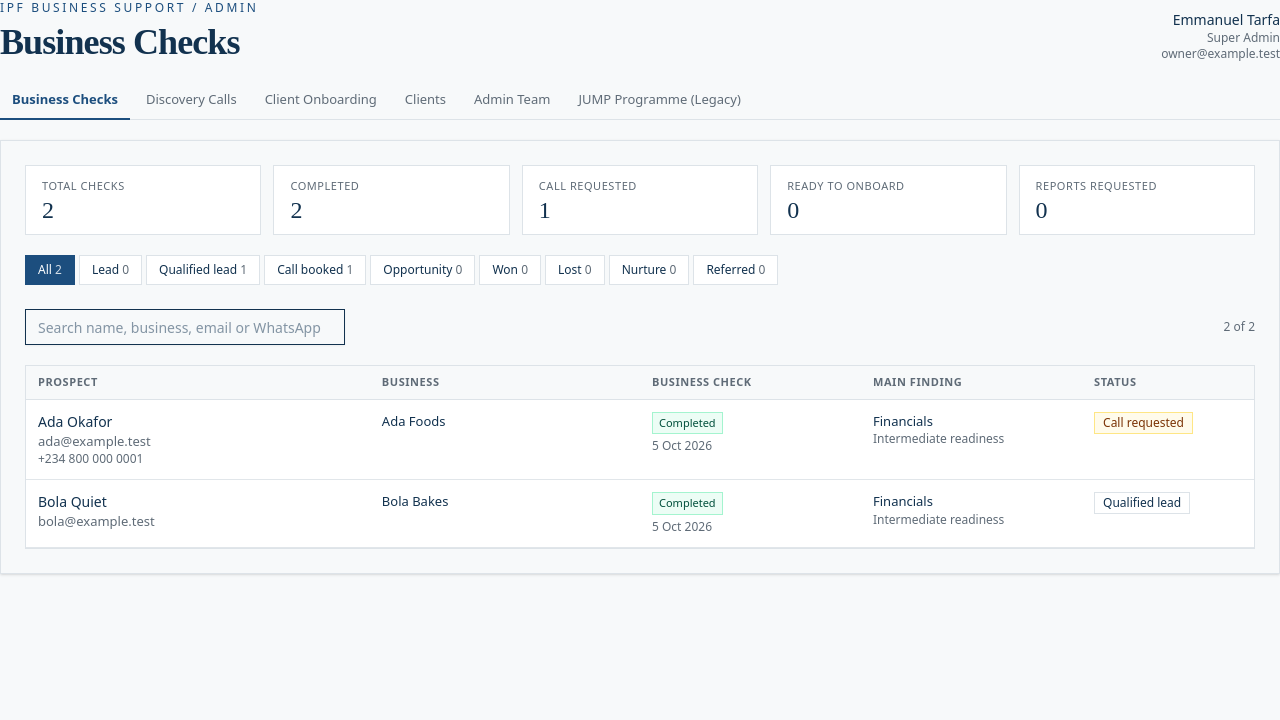
it: Business Check record drawer › shows the saved findings, outline and recommendations without recalculating anything
Click the text "Ada Okafor": (640, 439) [26, 399, 1254, 480]
(page scrolled)
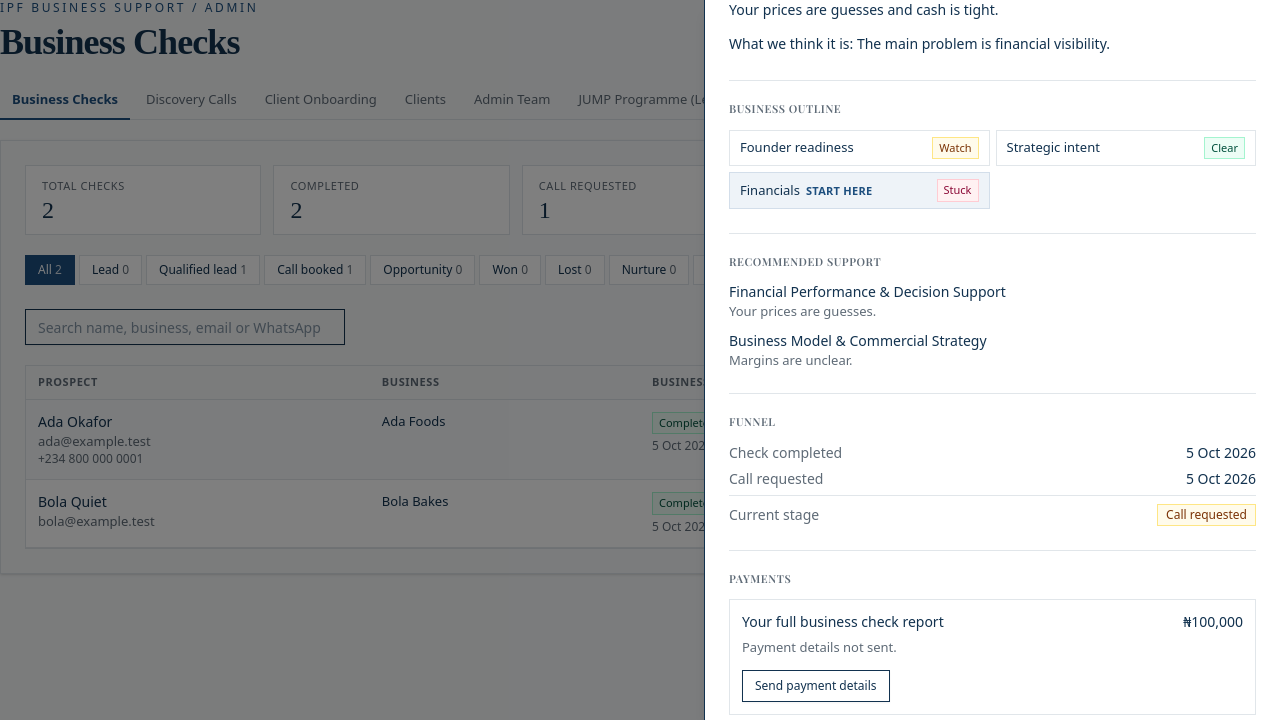
Now the text "Your prices are guesses and cash is tight." is shown, box [729, 0, 998, 18]
Now the text "The main problem is financial visibility." is shown, box [857, 34, 1110, 53]
Now the list item "Founder readiness" shows "Watch", box [939, 140, 972, 154]
